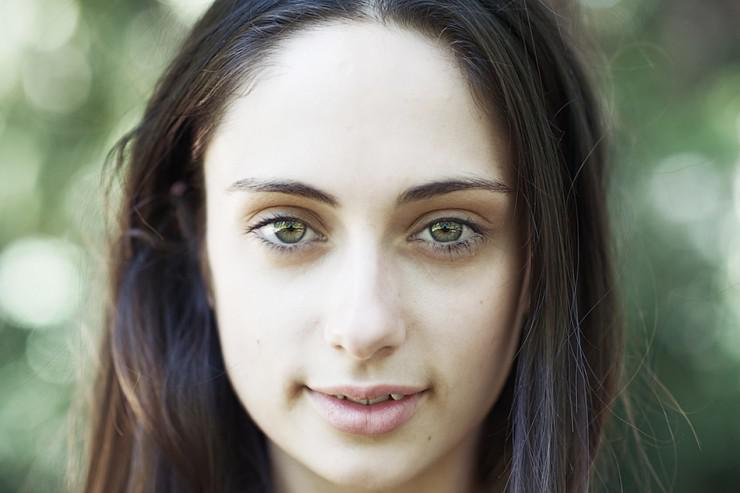Sober: (227, 55, 500, 455)
